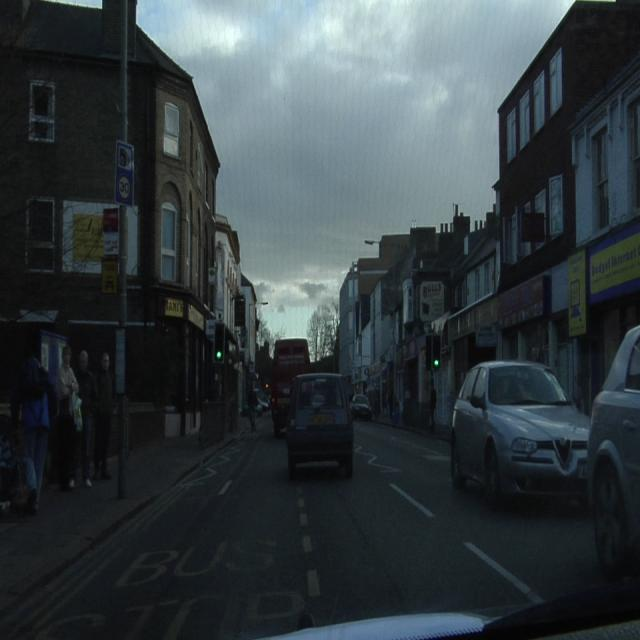Building: (339, 0, 638, 428), (1, 0, 263, 434)
Car: (452, 361, 588, 508), (589, 323, 639, 575), (286, 374, 353, 478), (351, 395, 371, 419)
Road: (0, 420, 603, 634)
Tree: (306, 303, 338, 372)
person: (14, 353, 54, 510), (76, 351, 108, 483)
